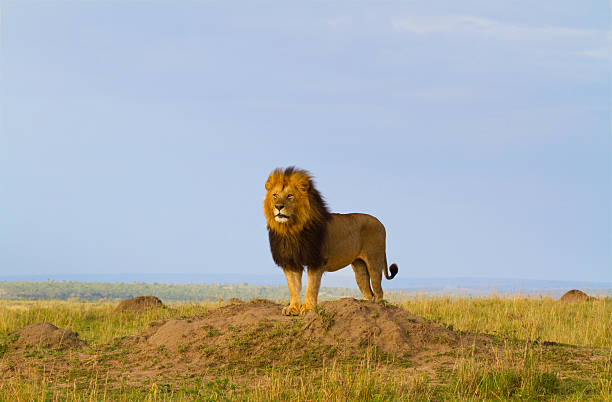lion: (247, 151, 339, 280)
